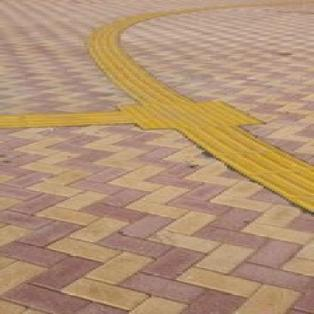Podoctatil: (0, 0, 314, 244)
